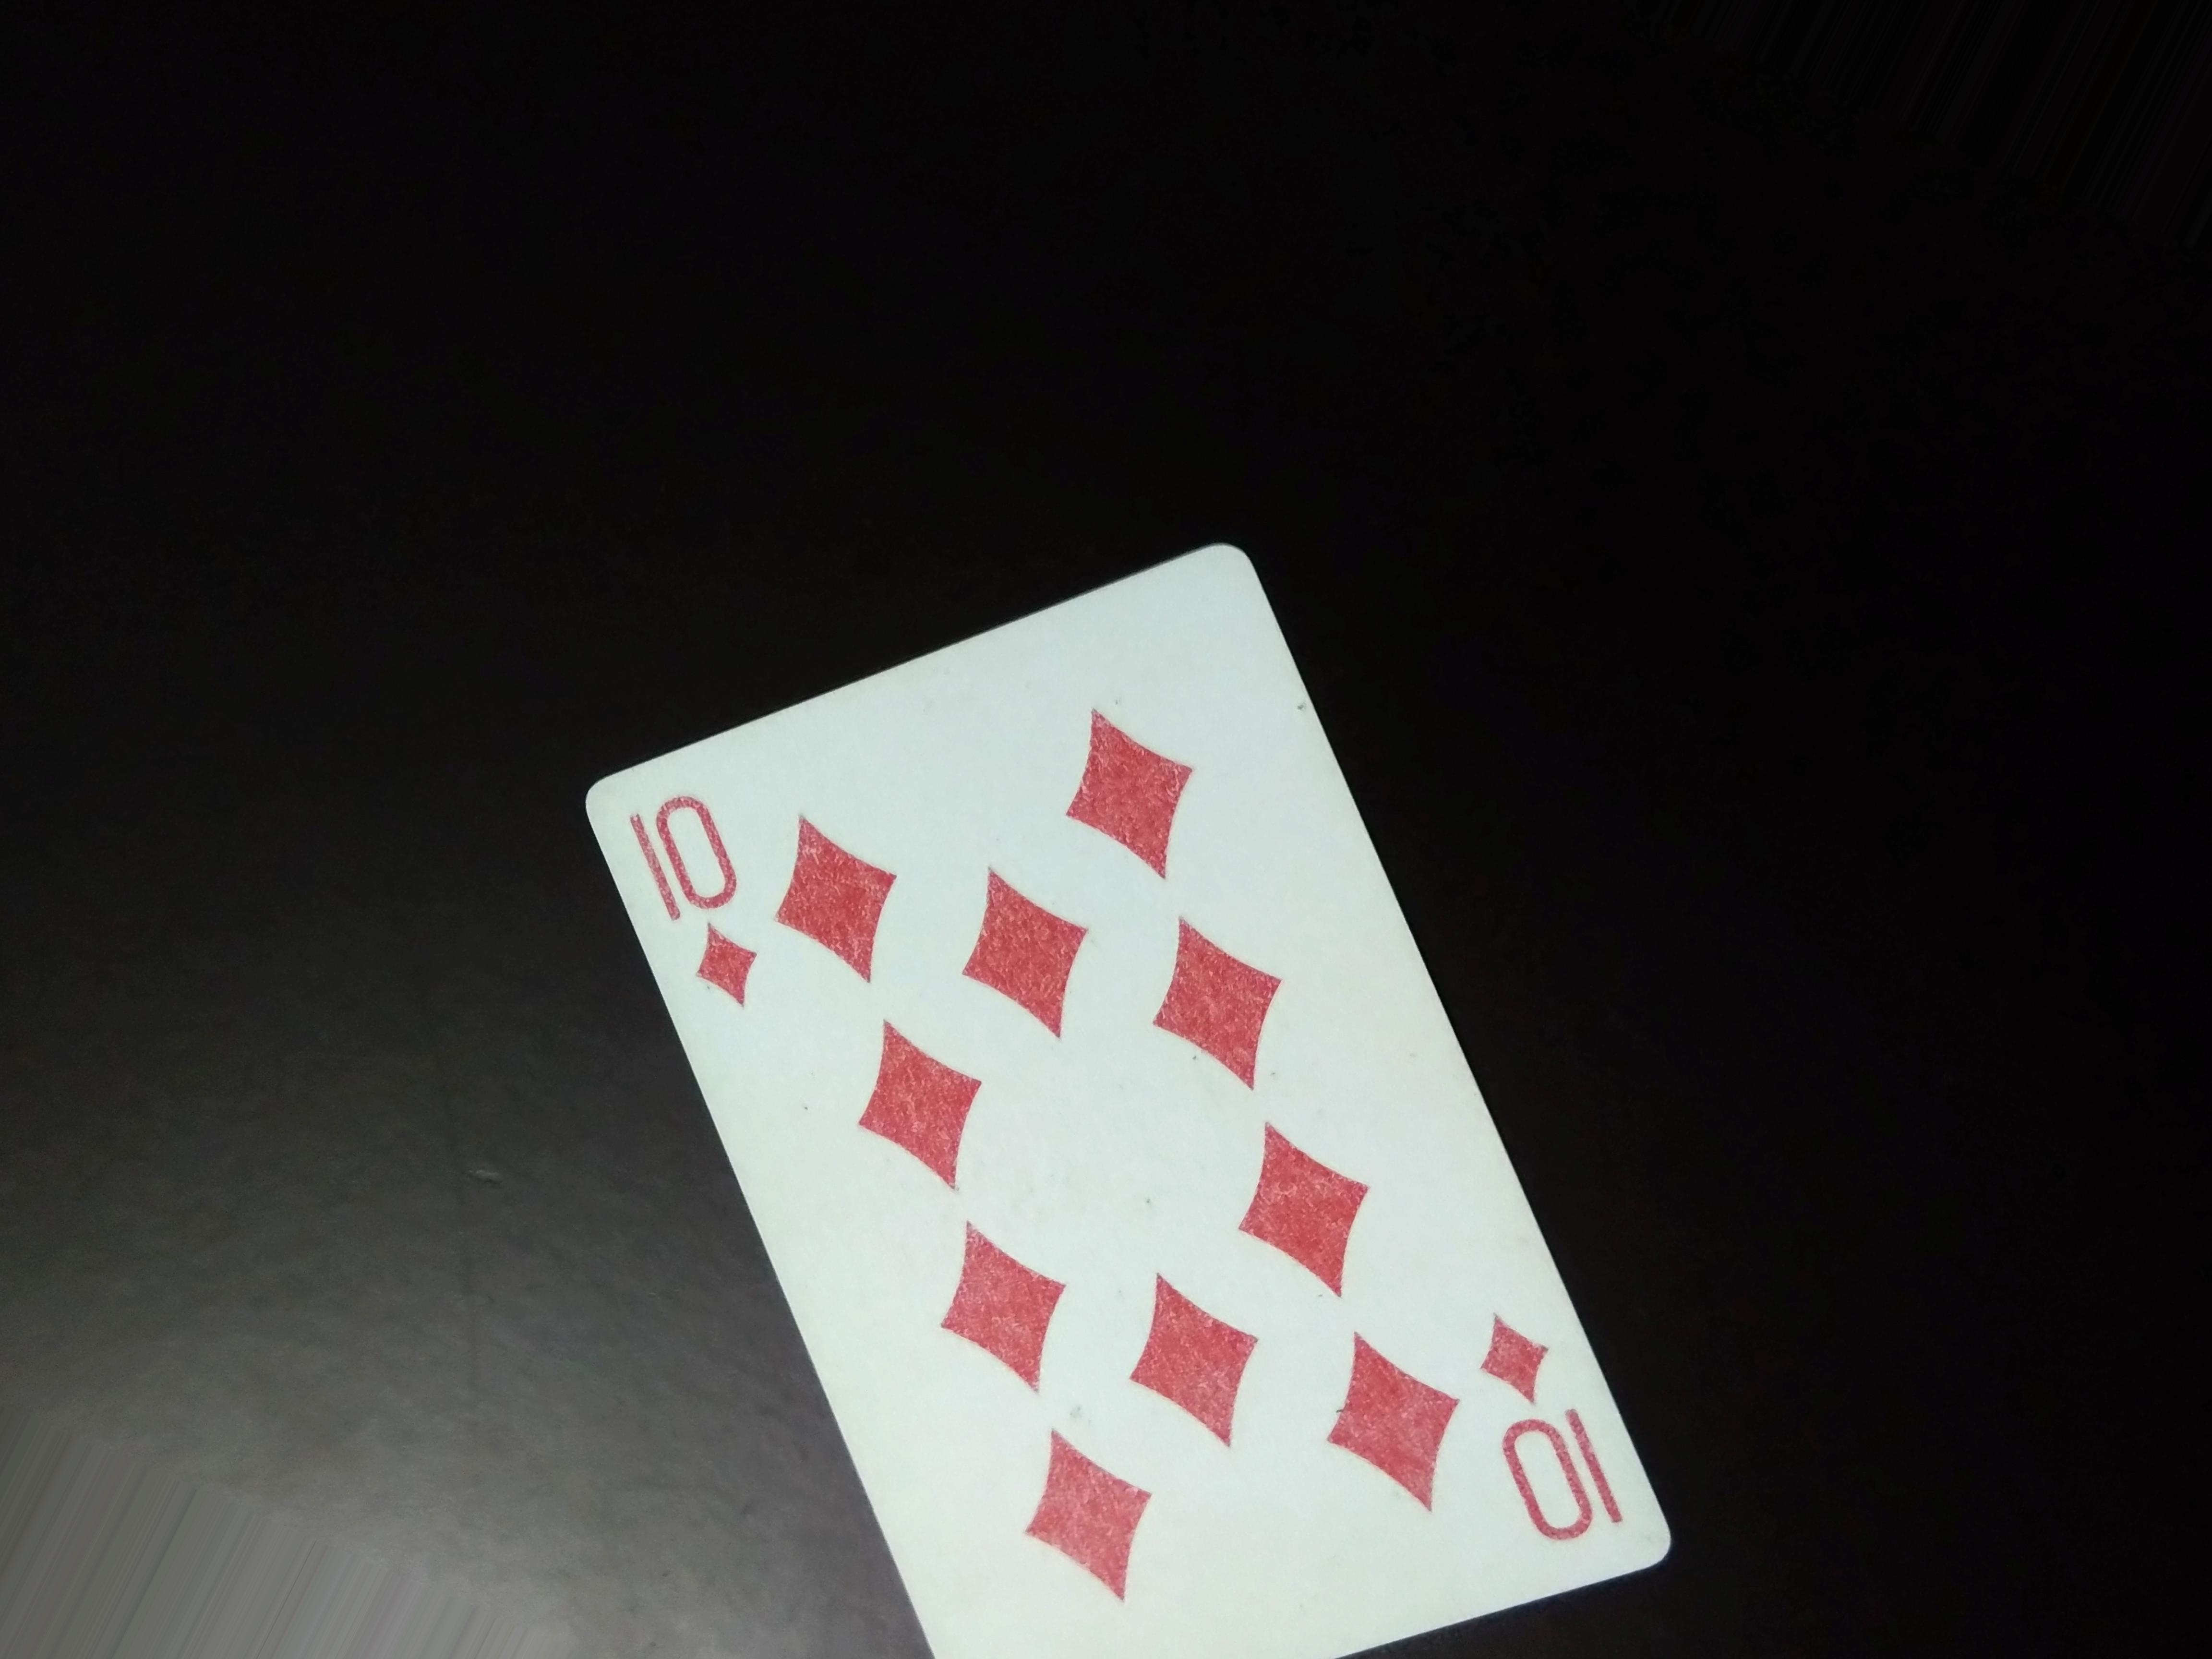10D: (608, 774, 765, 1004)
